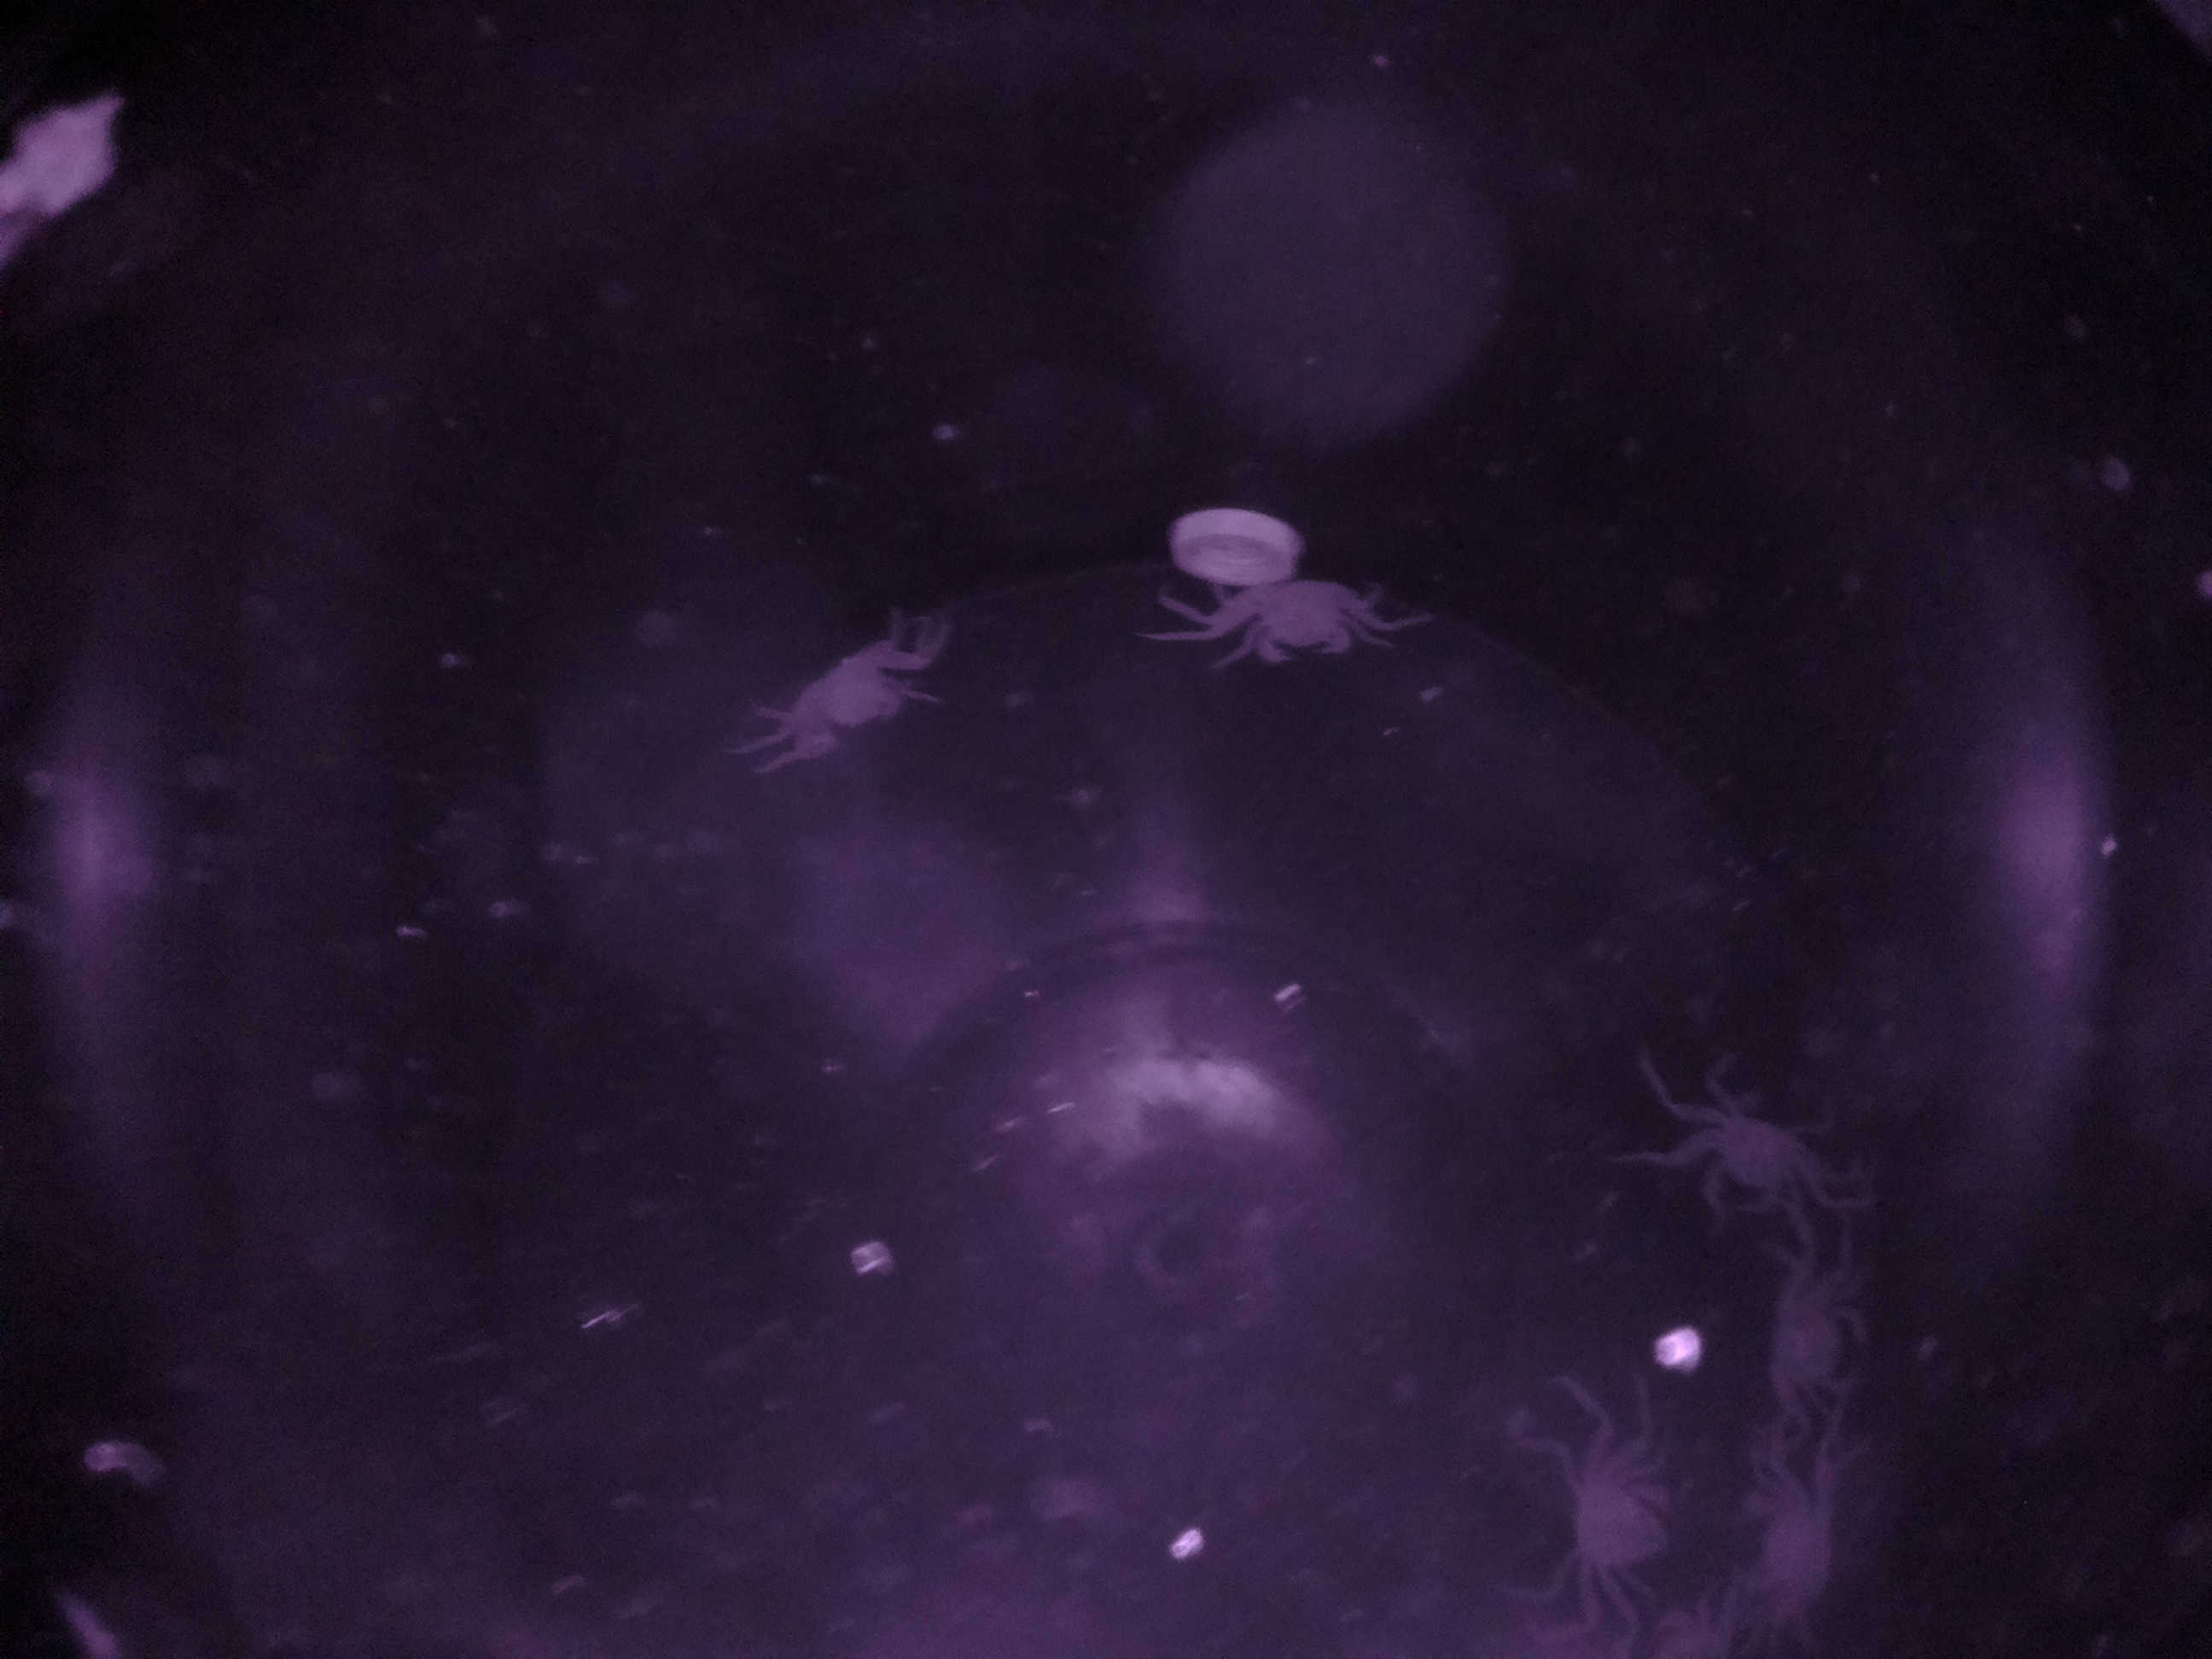Crab: (1534, 1415, 1695, 1614), (1670, 1084, 1850, 1220), (1181, 566, 1399, 674)
